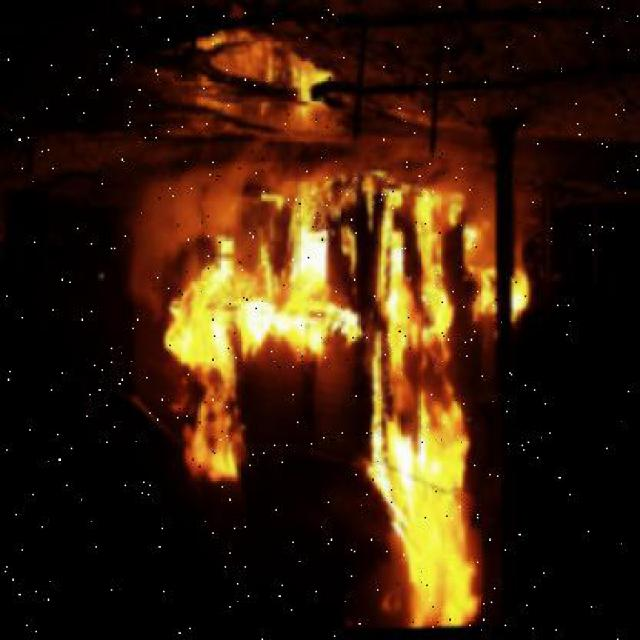fire: (361, 182, 498, 631), (167, 238, 275, 502), (279, 166, 354, 380)
